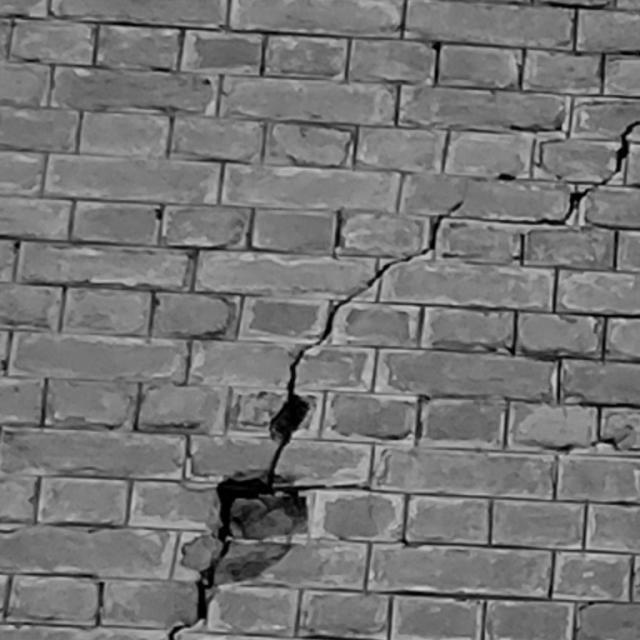crack: (167, 198, 465, 640), (530, 122, 639, 225)
